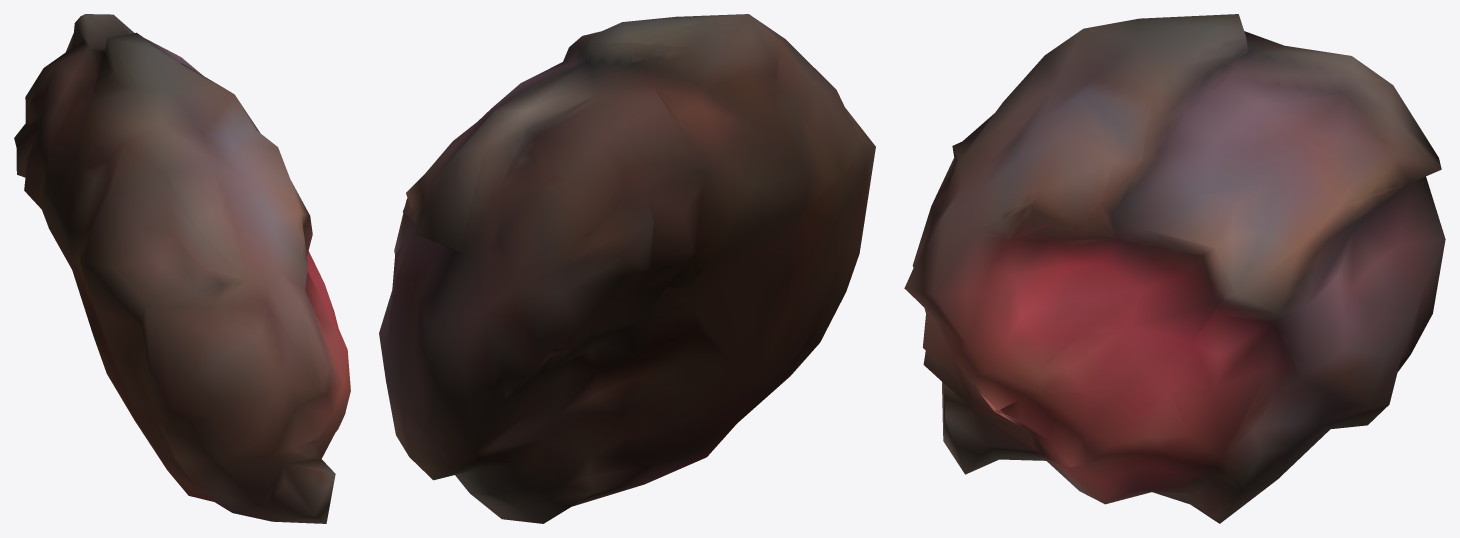
File: beetle_meat.glb
The picture shows the model from 3 angles, left to right: view 1: azimuth 30°, elevation 25°; view 2: azimuth 150°, elevation 25°; view 3: azimuth 270°, elevation 25°; orthographic projection. The views are drawn at different scales.
Visible parts, largest first — view 1: model; view 2: model; view 3: model.
Part boxes in pixels (left/top/right/bottom): model: left=14, top=14, right=350, bottom=523; model: left=379, top=14, right=875, bottom=523; model: left=904, top=14, right=1445, bottom=523.
Bounding box in the file's own units: 0.2482 × 0.3663 × 0.3992.
1 material, 1 textured.
